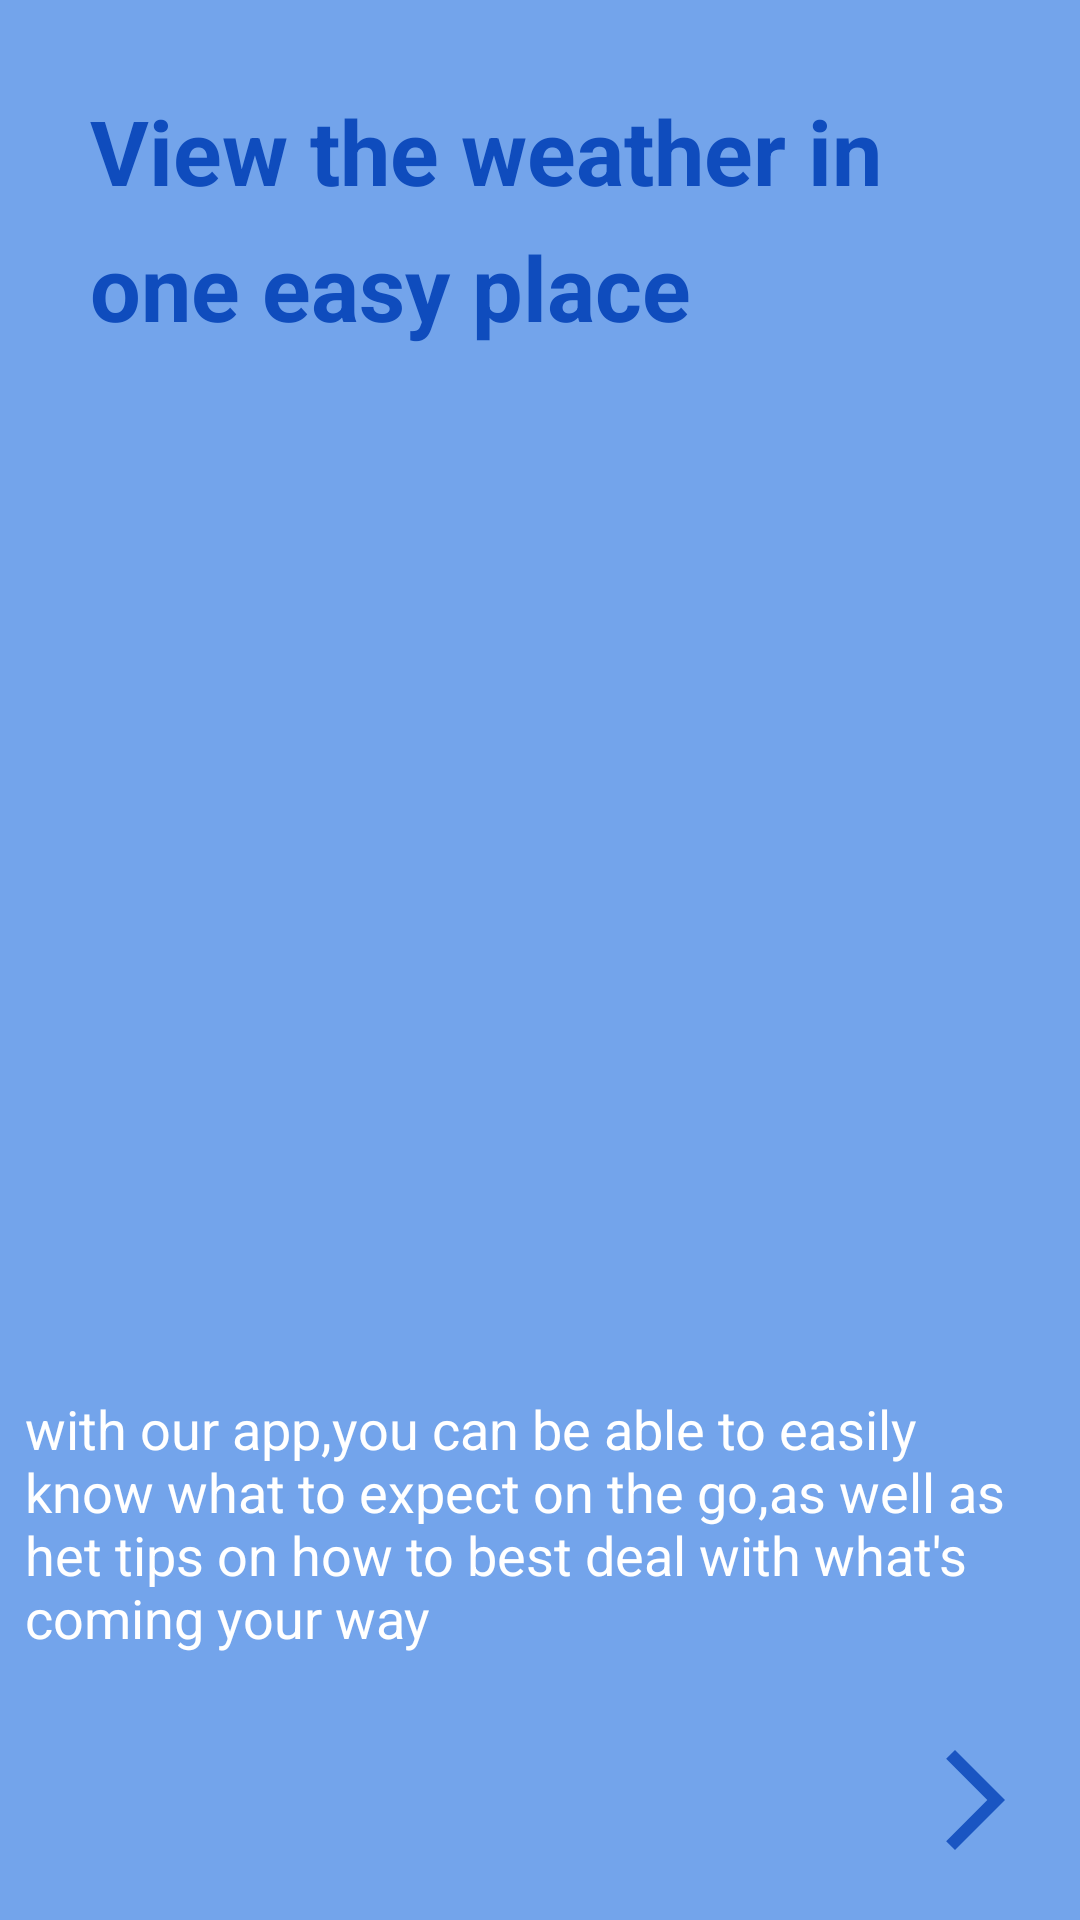

Icons on this 1080 x 1920 Android screen, each with the point to tap as [x,y]:
next: [975,1800]
